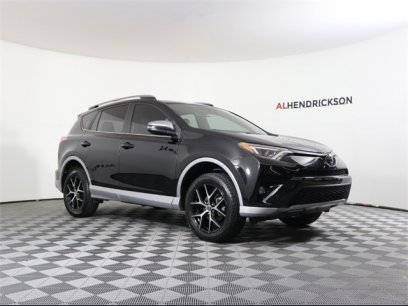Toyota RAV-4: (54, 98, 353, 244)
